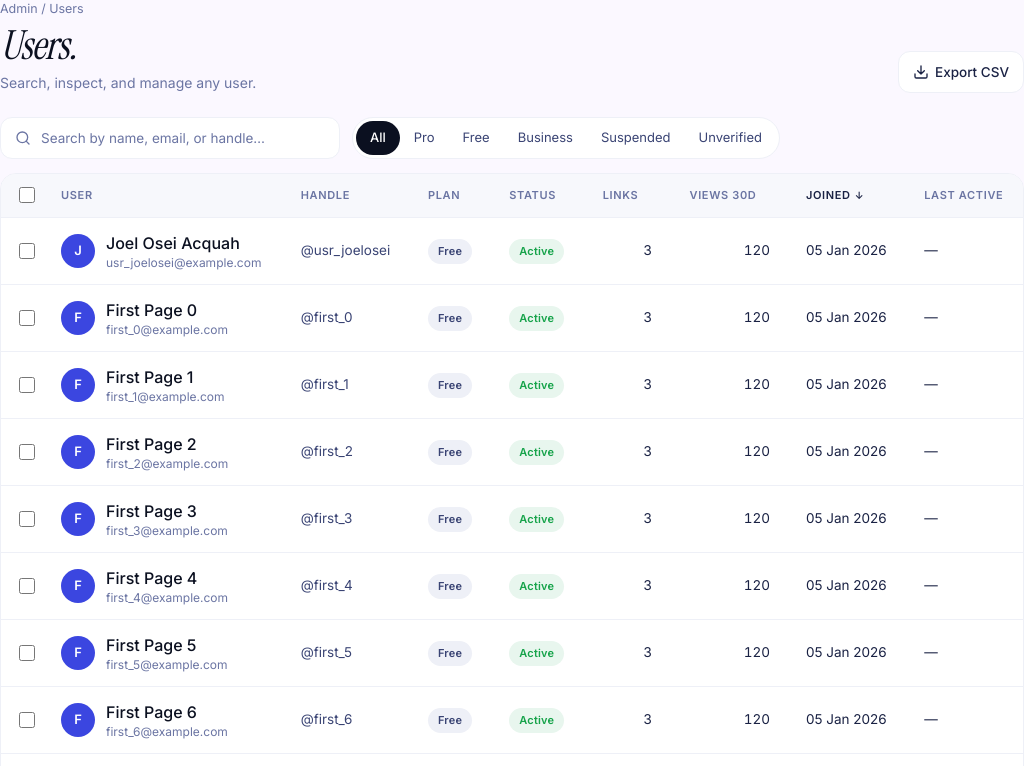
Test: UsersClient › filters rows by the suspended tab
Expected: the text "Joel Osei Acquah" is shown, [106,230,261,254]
Click the button "Suspended": {"x": 636, "y": 138} [587,121,684,155]
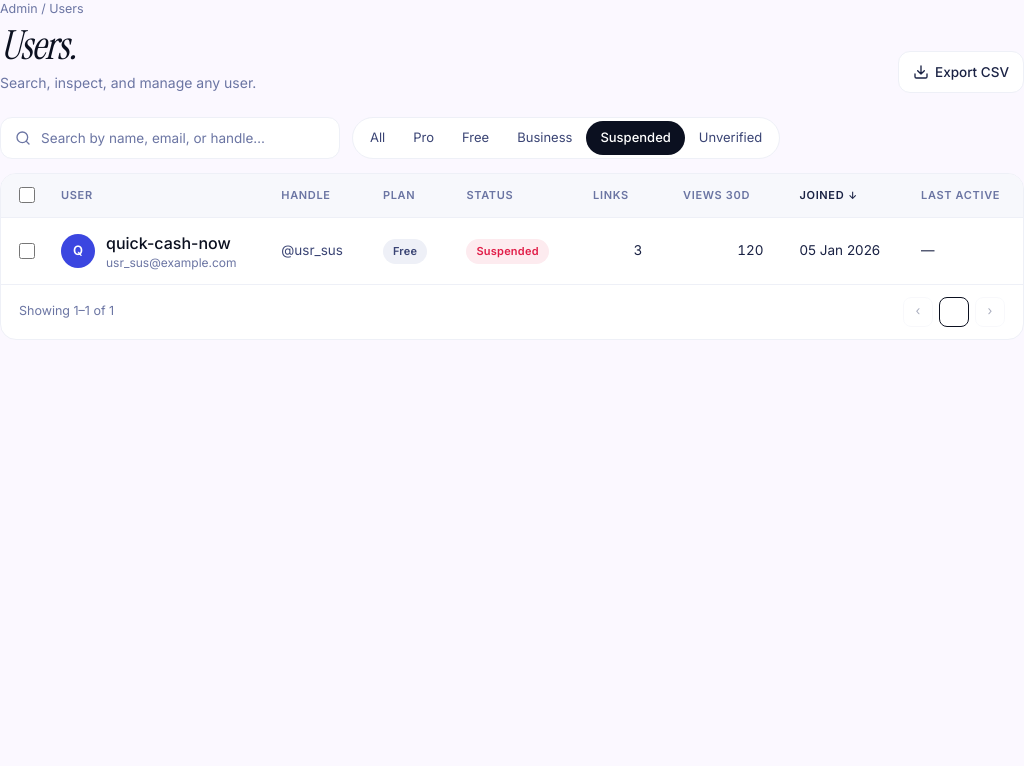
Expected: the text "Joel Osei Acquah" is gone
Expected: the text "quick-cash-now" is shown, [106,230,237,254]
